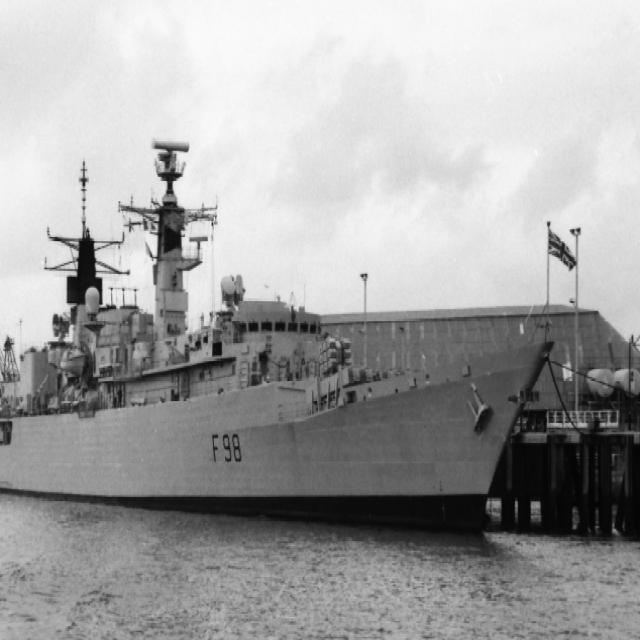Fragata: (1, 123, 558, 540)
